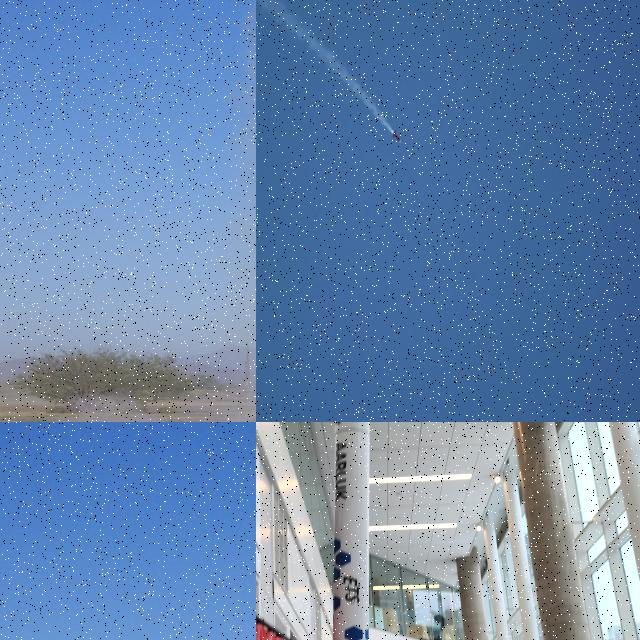Rocket: (333, 422, 370, 640), (393, 130, 402, 144)
